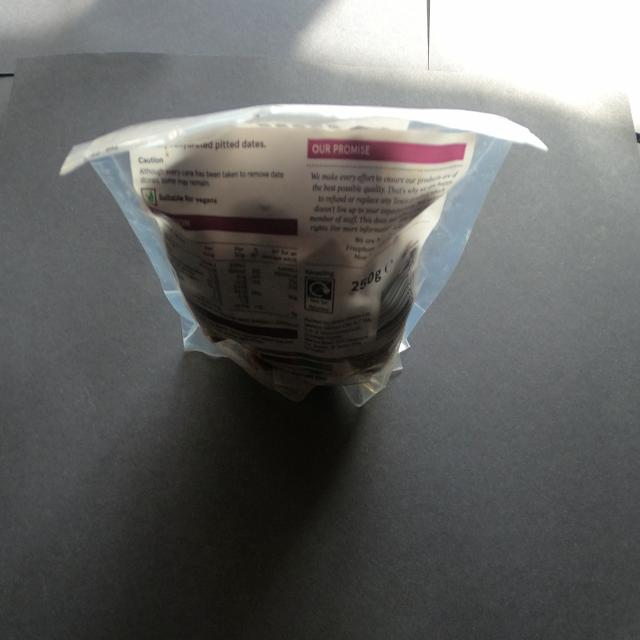Medjooldates: (51, 78, 567, 462)
